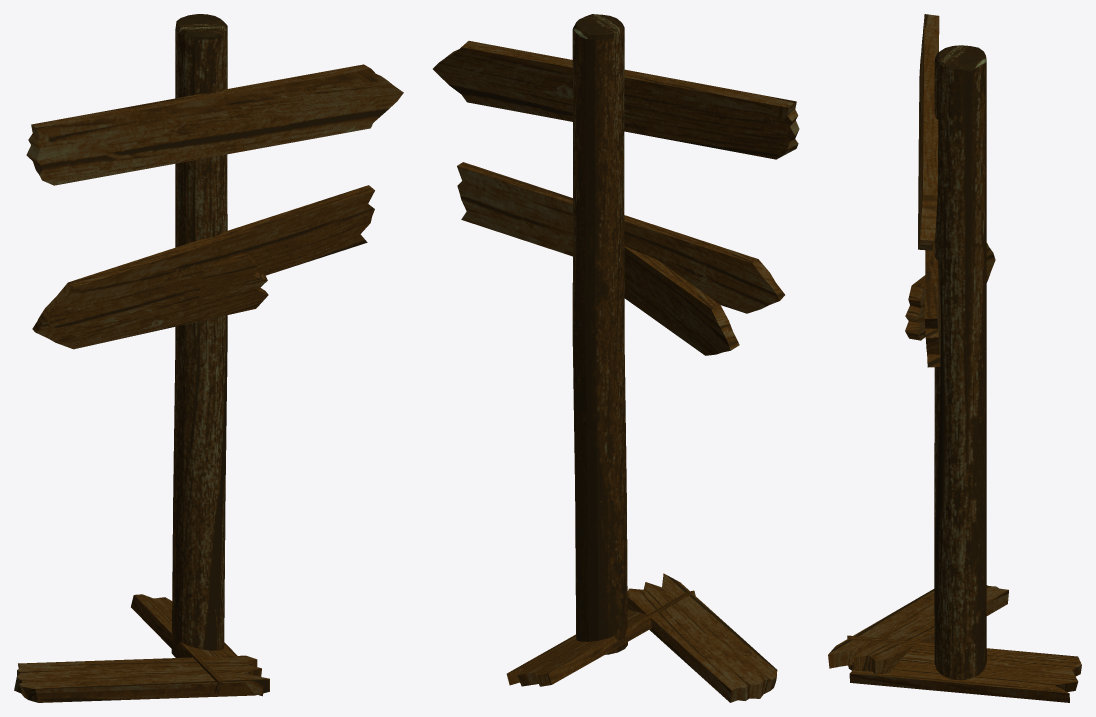
File: SM_RoadSigns.fbx
3 views of the same model, side by side, from view 1: azimuth 30°, elevation 25°; view 2: azimuth 150°, elevation 25°; view 3: azimuth 270°, elevation 25° (orthographic).
Parts seen in each view (by area): view 1: Cylinder.010, Cube.014, Cube.002; view 2: Cylinder.010, Cube.014, Cube.002; view 3: Cube.014, Cylinder.010, Cube.002.
Boxes of the visible parts, bbox=[...] form: Cylinder.010: bbox=[26, 14, 403, 657]; Cube.014: bbox=[14, 227, 269, 702]; Cube.002: bbox=[131, 594, 263, 696]; Cylinder.010: bbox=[433, 14, 799, 654]; Cube.014: bbox=[572, 216, 777, 702]; Cube.002: bbox=[506, 590, 695, 686]; Cube.014: bbox=[828, 243, 1008, 680]; Cylinder.010: bbox=[918, 14, 986, 377]; Cube.002: bbox=[847, 635, 1081, 702].
Size of the model in its own units: 273 by 451 by 164.
